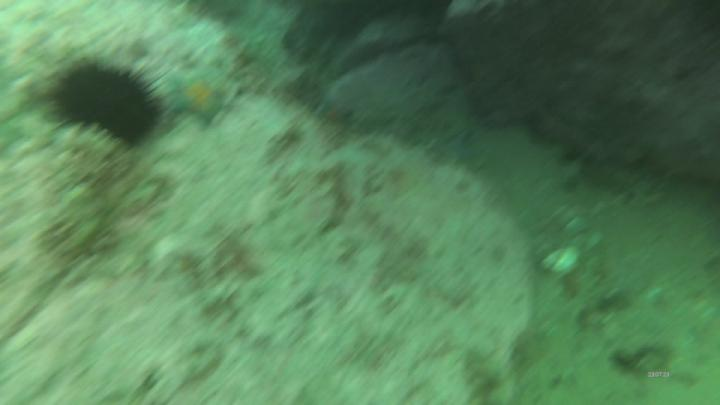echinus: (52, 59, 162, 147)
starfish: (169, 71, 228, 123)
